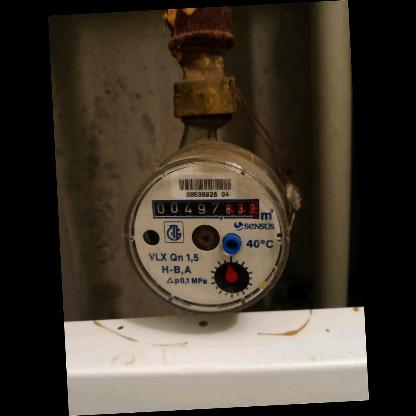digital_screen: (149, 198, 223, 220)
